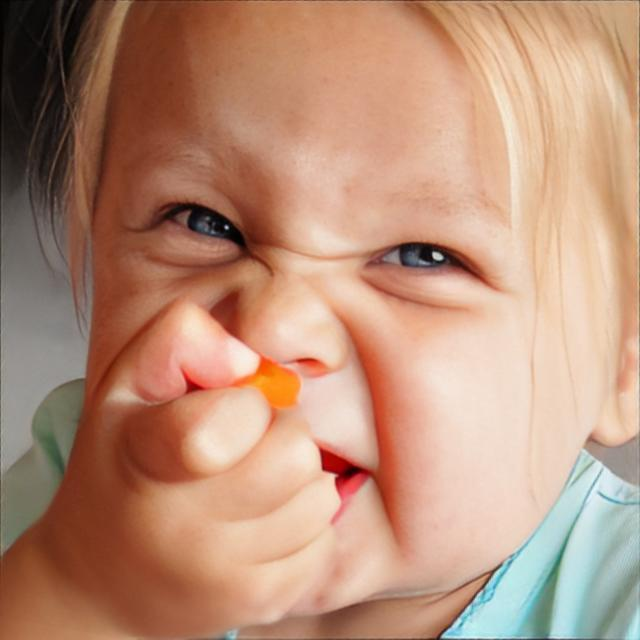disgust: (84, 0, 592, 621)
